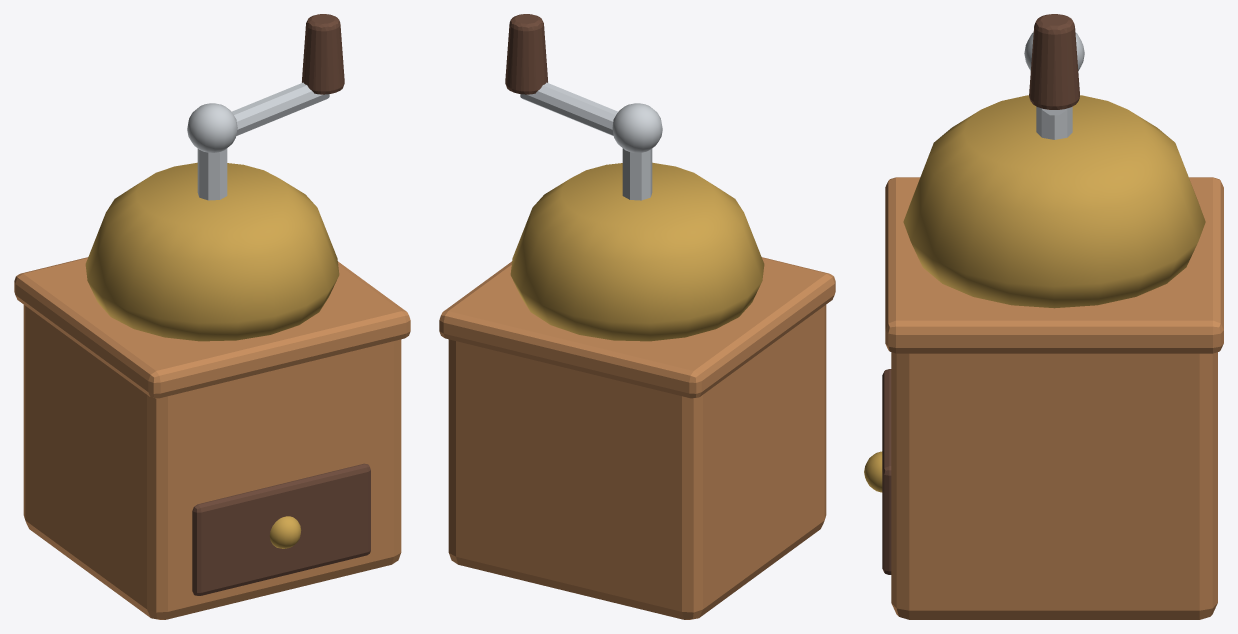
Rendered from hh_cat_coffee_grinder.glb.
3 renders of one model, left to right at view 1: azimuth 30°, elevation 25°; view 2: azimuth 150°, elevation 25°; view 3: azimuth 270°, elevation 25°, orthographic. The views are drawn at different scales.
Visible parts, largest first — view 1: grinder_body, hopper, body_cap, drawer, crank_knob, crank_arm, crank_nut, crank_shaft, drawer_knob; view 2: grinder_body, hopper, body_cap, crank_knob, crank_arm, crank_nut, crank_shaft; view 3: grinder_body, hopper, body_cap, crank_knob, drawer, crank_shaft, drawer_knob.
Part boxes in pixels (bbox=[...]): grinder_body: bbox=[23, 305, 401, 619]; hopper: bbox=[85, 162, 339, 341]; body_cap: bbox=[14, 257, 410, 398]; drawer: bbox=[192, 463, 370, 595]; crank_knob: bbox=[302, 14, 344, 94]; crank_arm: bbox=[232, 82, 329, 135]; crank_nut: bbox=[187, 103, 237, 152]; crank_shaft: bbox=[197, 148, 227, 200]; drawer_knob: bbox=[269, 516, 301, 548]; grinder_body: bbox=[448, 305, 826, 619]; hopper: bbox=[510, 162, 764, 341]; body_cap: bbox=[439, 257, 835, 398]; crank_knob: bbox=[505, 14, 547, 94]; crank_arm: bbox=[520, 82, 617, 135]; crank_nut: bbox=[612, 103, 662, 152]; crank_shaft: bbox=[622, 148, 652, 200]; grinder_body: bbox=[891, 352, 1217, 619]; hopper: bbox=[903, 95, 1205, 308]; body_cap: bbox=[885, 177, 1223, 353]; crank_knob: bbox=[1029, 14, 1079, 109]; drawer: bbox=[882, 369, 891, 574]; crank_shaft: bbox=[1036, 106, 1072, 139]; drawer_knob: bbox=[864, 451, 882, 492].
Size of the model in its own units: 0.12 by 0.22 by 0.12.
